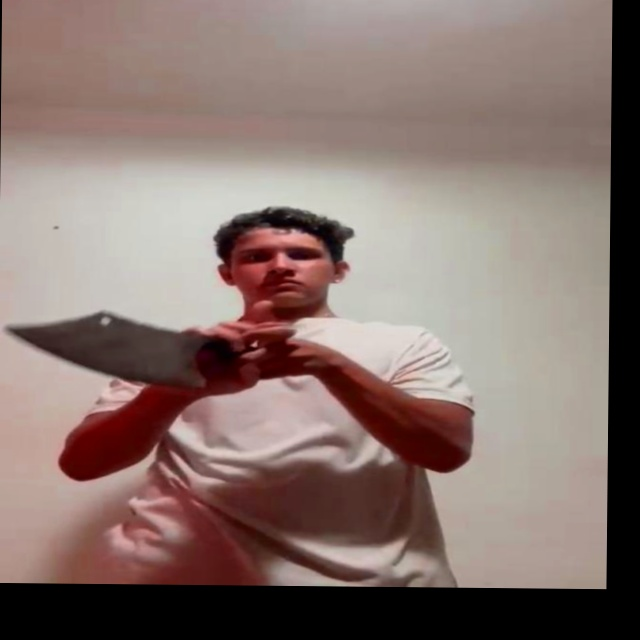Sharp-Object: (3, 308, 212, 390)
